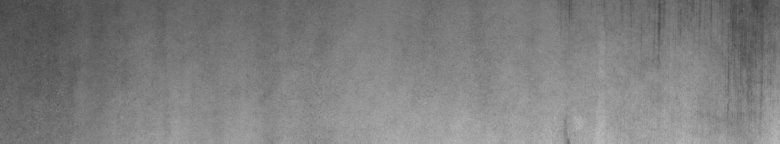ka: (652, 4, 764, 88)
